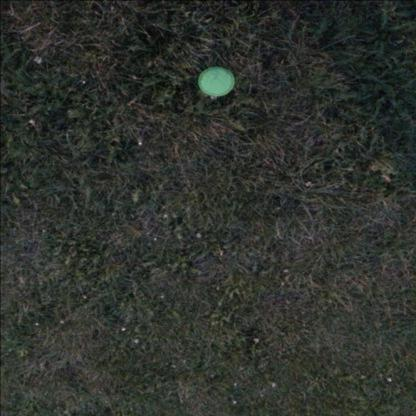Bottle: (198, 66, 236, 96)
